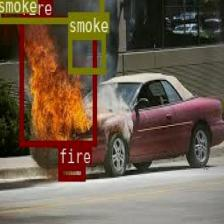fire: (19, 15, 96, 145), (58, 163, 84, 180)
smoke: (0, 0, 103, 23), (68, 33, 104, 72)
